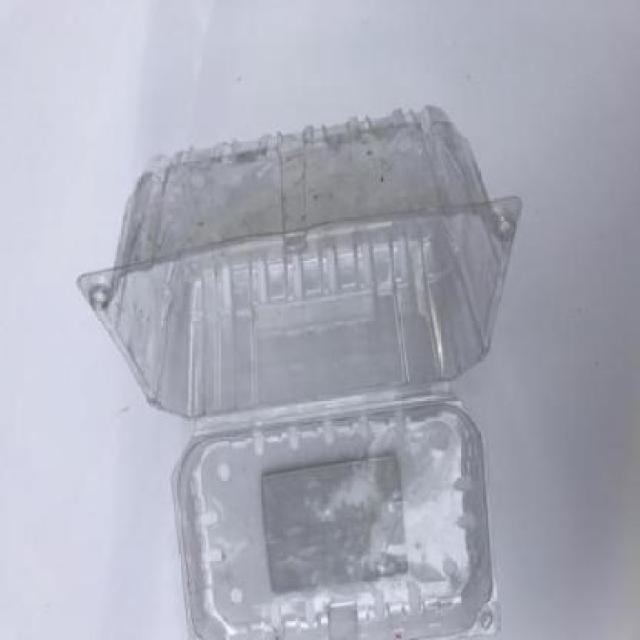PLASTIC: (76, 104, 522, 638), (76, 108, 522, 424), (168, 390, 502, 638)
